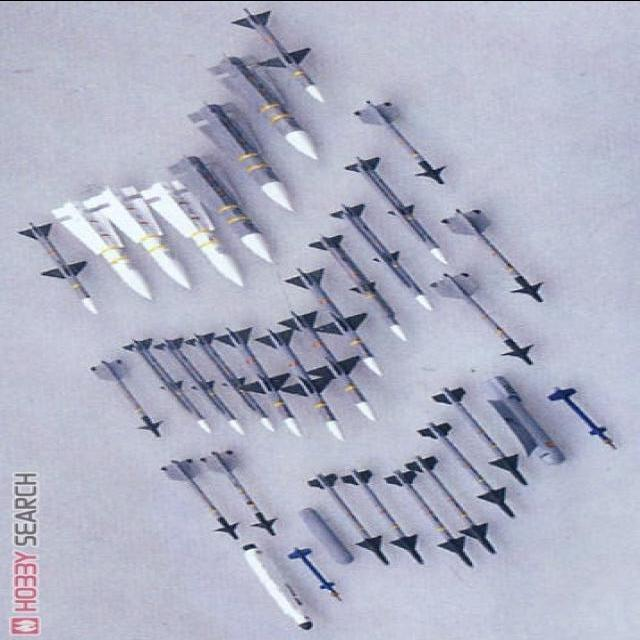Missile: (549, 381, 624, 463)
